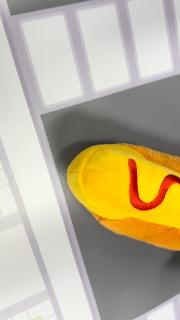hotdog: (66, 142, 180, 252)
